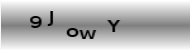9: (28, 15, 42, 29)
J: (46, 10, 56, 27)
Y: (106, 19, 122, 33)
o: (65, 27, 79, 38)
w: (78, 29, 97, 41)
